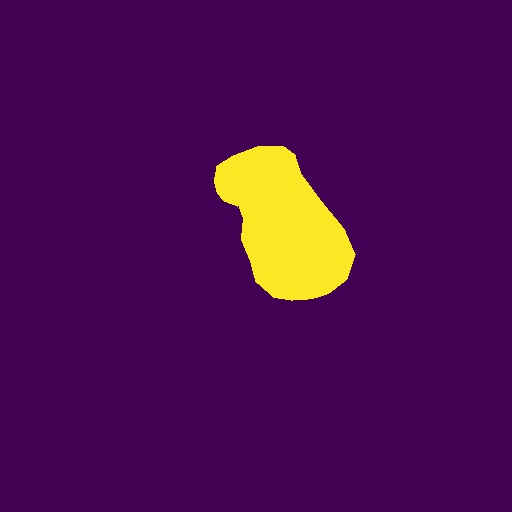Gliomia_tumour: (214, 146, 356, 301)
